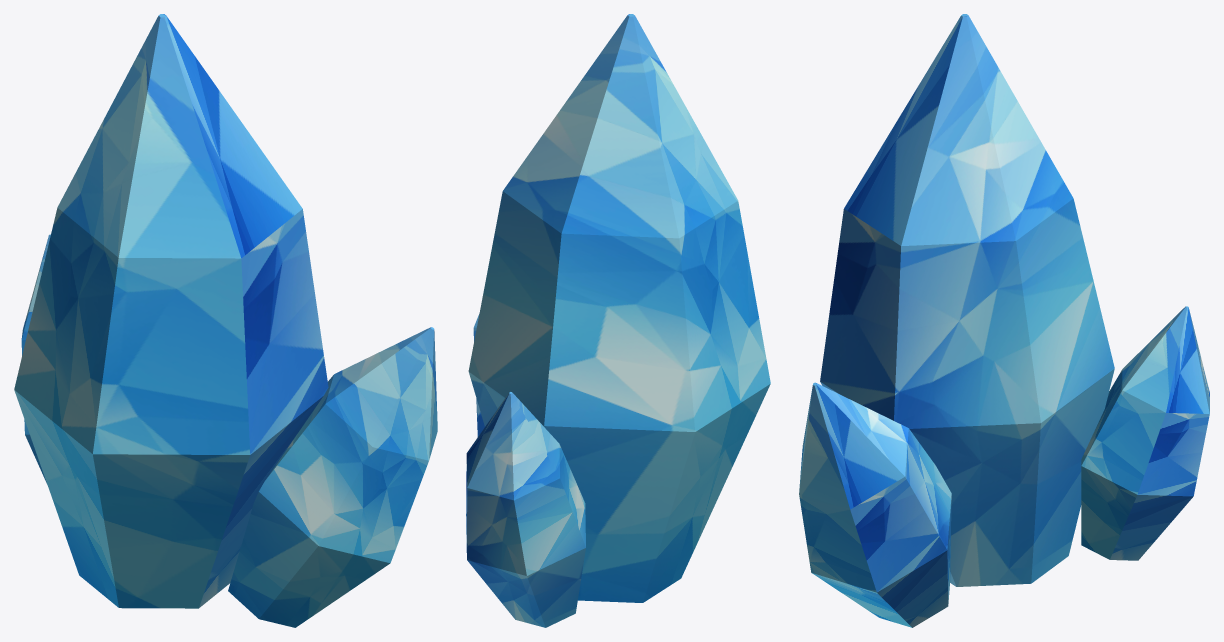
File: crystal.obj
The picture shows the model from 3 angles, left to right: view 1: azimuth 30°, elevation 25°; view 2: azimuth 150°, elevation 25°; view 3: azimuth 270°, elevation 25°; orthographic projection. The views are drawn at different scales.
Parts seen in each view (by area): view 1: Cylinder, Cylinder.002, Cylinder.001; view 2: Cylinder, Cylinder.001; view 3: Cylinder, Cylinder.002, Cylinder.001.
Boxes of the visible parts, bbox=[...] form: Cylinder: bbox=[14, 14, 328, 608]; Cylinder.002: bbox=[228, 327, 437, 627]; Cylinder.001: bbox=[21, 234, 50, 483]; Cylinder: bbox=[468, 14, 770, 602]; Cylinder.001: bbox=[466, 392, 585, 627]; Cylinder: bbox=[820, 14, 1114, 586]; Cylinder.002: bbox=[799, 382, 951, 627]; Cylinder.001: bbox=[1081, 306, 1209, 560].
Size of the model in its own units: 0.8467 by 1.51 by 0.9993.
Materials: 1 (1 with a texture image).
